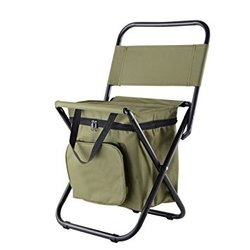chairs: (47, 18, 211, 244)
